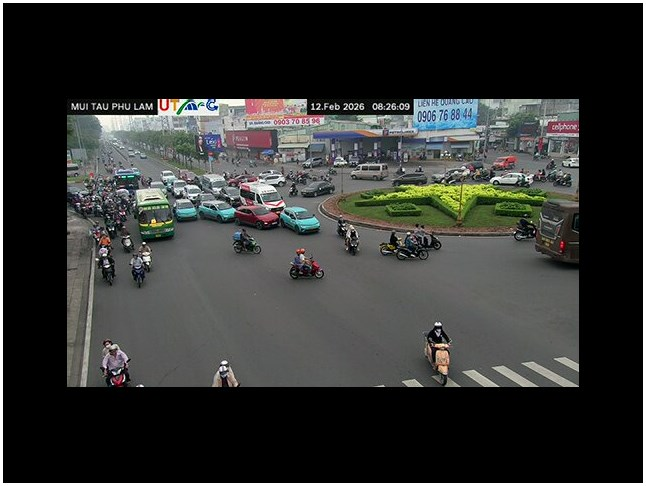bus: (535, 195, 579, 264), (134, 189, 176, 241)
car: (279, 205, 320, 235), (234, 203, 280, 229), (198, 199, 236, 223), (297, 179, 335, 198), (351, 162, 389, 180), (394, 165, 427, 185), (490, 171, 531, 187), (174, 200, 198, 221), (258, 172, 285, 184), (160, 170, 177, 184)
motorbike: (232, 229, 260, 254), (130, 255, 149, 288), (97, 253, 116, 286)
truck: (535, 195, 579, 264)
